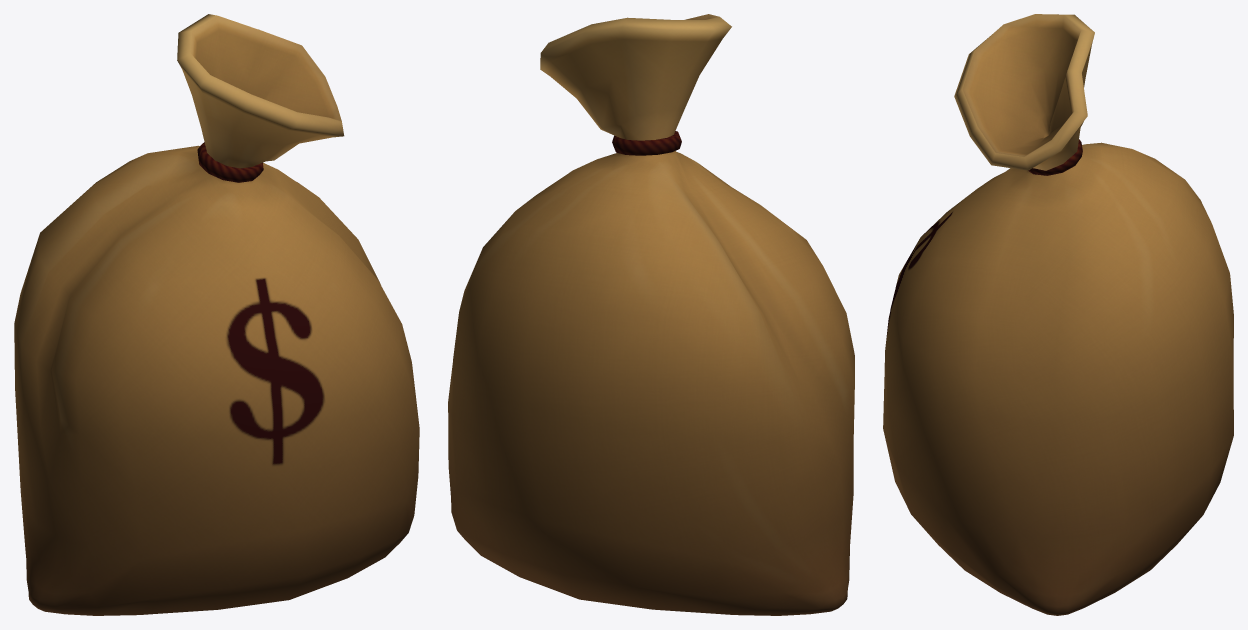
The picture shows the model from 3 angles, left to right: view 1: azimuth 30°, elevation 25°; view 2: azimuth 150°, elevation 25°; view 3: azimuth 270°, elevation 25°; orthographic projection. The views are drawn at different scales.
Visible parts, largest first — view 1: MoneyBag; view 2: MoneyBag; view 3: MoneyBag.
Part boxes in pixels (x1,y1,x2,y2): MoneyBag: [14, 14, 419, 615]; MoneyBag: [448, 14, 854, 615]; MoneyBag: [883, 14, 1233, 615].
Bounding box in the file's own units: 69.9 × 96.99 × 60.38.
1 material, 1 textured.
